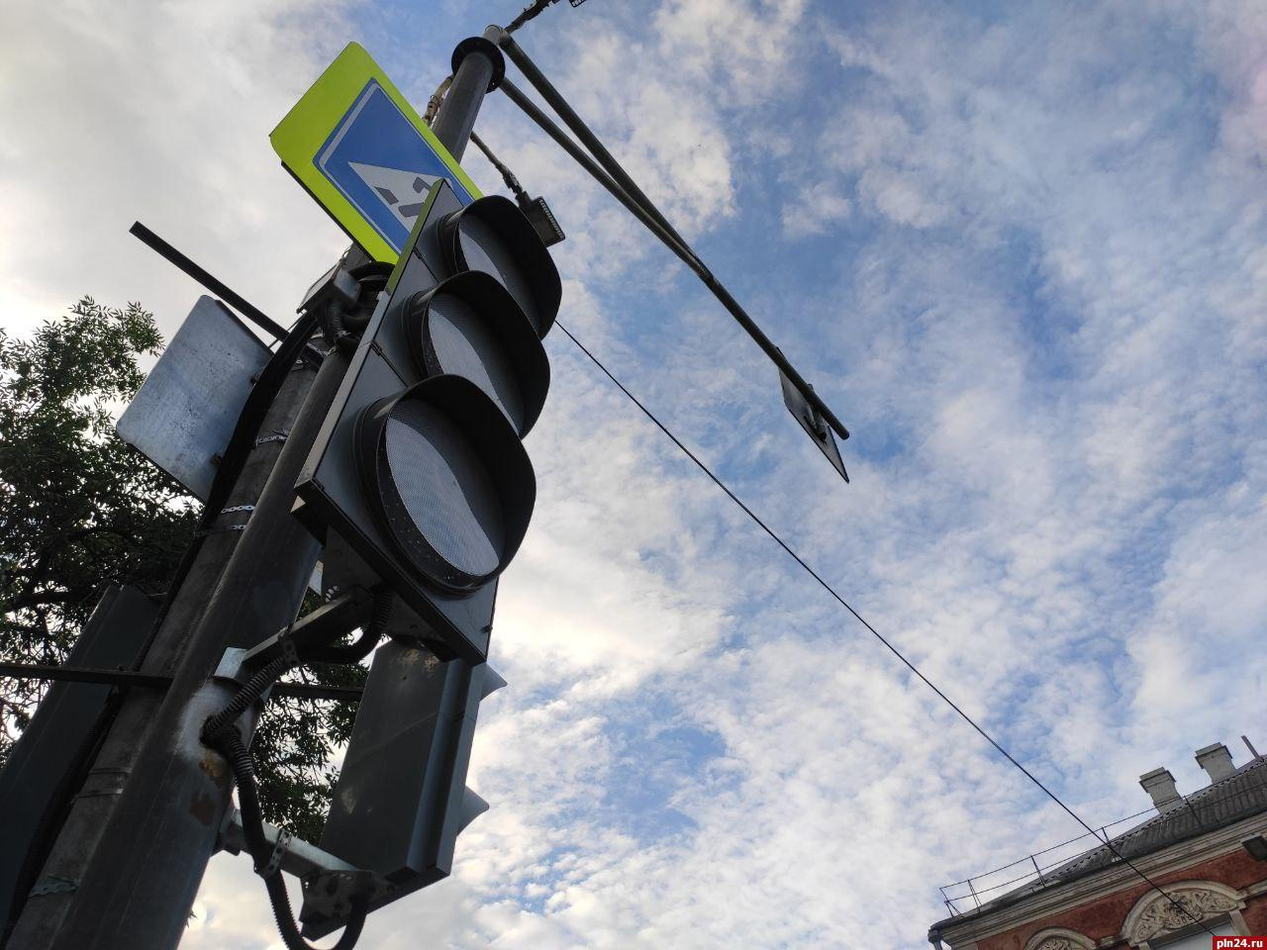obstructed_road_sign: (269, 43, 478, 266)
off traffic light: (296, 186, 559, 667), (321, 640, 502, 887)
